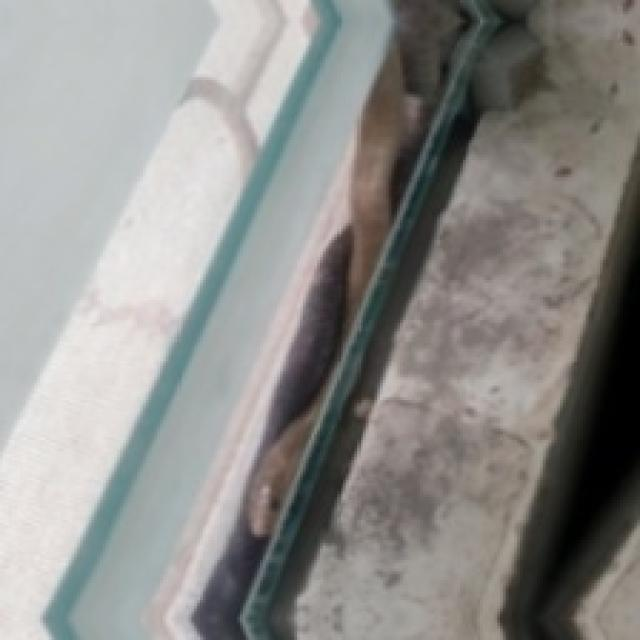reddish rat snake: (192, 0, 468, 640)
